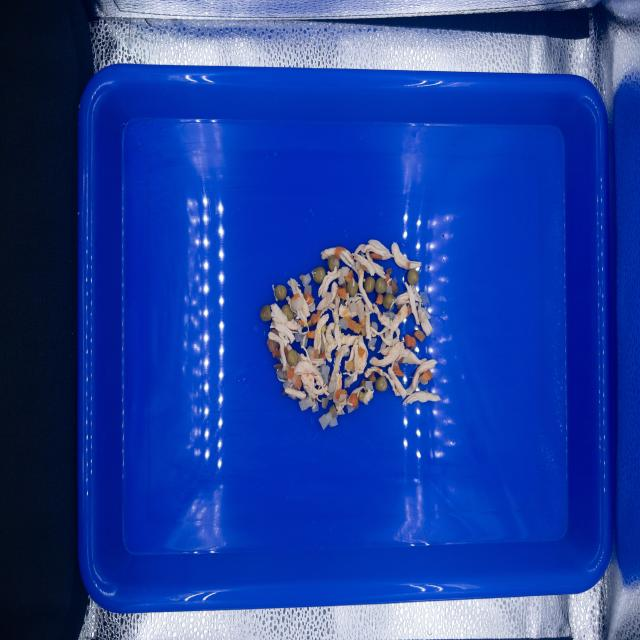Carrot: (342, 315, 366, 337), (267, 339, 281, 358), (308, 311, 321, 326), (335, 246, 347, 260), (421, 370, 434, 382), (413, 330, 425, 342), (350, 393, 358, 410), (405, 335, 416, 347), (393, 366, 405, 376), (305, 293, 315, 304), (345, 270, 354, 282), (391, 280, 398, 295), (336, 390, 347, 399), (338, 288, 347, 298), (375, 293, 383, 304), (296, 377, 302, 390), (370, 253, 381, 260), (358, 347, 365, 358), (384, 274, 390, 286), (287, 369, 294, 379), (307, 331, 315, 338), (408, 306, 412, 316), (407, 263, 410, 268), (388, 282, 390, 285)
Chicken_Shred: (364, 327, 438, 398), (322, 323, 368, 382), (268, 303, 303, 371), (390, 282, 433, 337), (294, 346, 329, 402), (287, 278, 314, 346), (352, 239, 394, 279), (354, 268, 374, 342), (370, 303, 408, 340), (316, 265, 342, 311), (393, 357, 423, 389), (391, 242, 422, 270), (313, 314, 329, 354), (320, 294, 340, 325), (333, 373, 347, 415), (402, 390, 441, 405), (333, 344, 350, 375), (339, 249, 359, 275), (285, 384, 306, 400), (342, 293, 363, 306), (339, 304, 357, 319), (321, 247, 336, 259)
Peas: (313, 266, 326, 283), (375, 376, 388, 392), (260, 305, 272, 322), (407, 269, 419, 285), (383, 293, 395, 309), (282, 304, 294, 320), (287, 349, 299, 365), (346, 281, 358, 296), (275, 285, 287, 300), (328, 256, 340, 271), (376, 278, 386, 294), (365, 277, 375, 293), (322, 324, 327, 333)
Potato_White: (318, 412, 338, 430), (348, 301, 364, 322), (302, 273, 312, 296), (298, 397, 314, 411), (338, 267, 350, 285), (290, 297, 304, 310), (320, 365, 330, 383), (339, 318, 349, 331), (344, 376, 354, 388), (307, 346, 315, 360), (293, 375, 300, 390), (330, 370, 337, 383), (368, 338, 377, 347), (312, 401, 319, 412), (277, 369, 285, 378), (283, 380, 291, 389), (329, 382, 336, 392), (366, 381, 373, 390), (309, 302, 315, 312), (386, 285, 393, 293), (347, 405, 354, 413), (300, 334, 305, 345), (295, 333, 301, 342), (372, 322, 378, 331), (355, 261, 360, 270), (304, 336, 308, 347)
